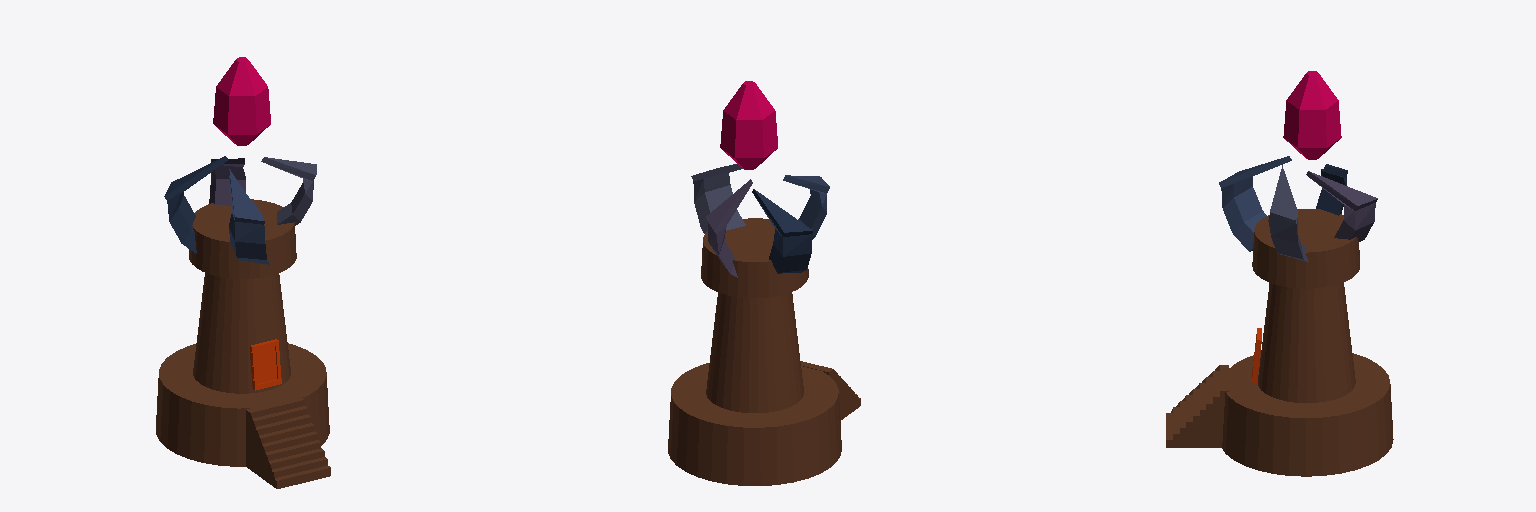
The model's file is KULE.OBJ.
3 views of the same model, side by side, from view 1: azimuth 30°, elevation 25°; view 2: azimuth 150°, elevation 25°; view 3: azimuth 270°, elevation 25° (orthographic).
Visible parts, largest first — view 1: Cube, Cylinder, Cone, Cone.002, Cone.001, Cube.001, Cone.003; view 2: Cube, Cylinder, Cone.002, Cone.001, Cone.003, Cone; view 3: Cube, Cylinder, Cone, Cone.003, Cone.001, Cone.002.
Part boxes in pixels (x1,y1,x2,y2): Cube: (156,199,330,488); Cylinder: (213,57,270,145); Cone: (229,169,269,264); Cone.002: (164,156,227,253); Cone.001: (261,157,316,225); Cube.001: (250,339,281,390); Cone.003: (209,158,245,205); Cube: (668,218,860,485); Cylinder: (720,81,777,169); Cone.002: (752,189,812,273); Cone.001: (691,164,745,233); Cone.003: (706,179,752,277); Cone: (783,175,829,239); Cube: (1166,209,1393,476); Cylinder: (1283,71,1341,159); Cone: (1219,156,1291,251); Cone.003: (1306,171,1377,241); Cone.001: (1268,165,1308,261); Cone.002: (1316,164,1347,215).
Size of the model in its own units: 6.67 by 15.51 by 8.68.